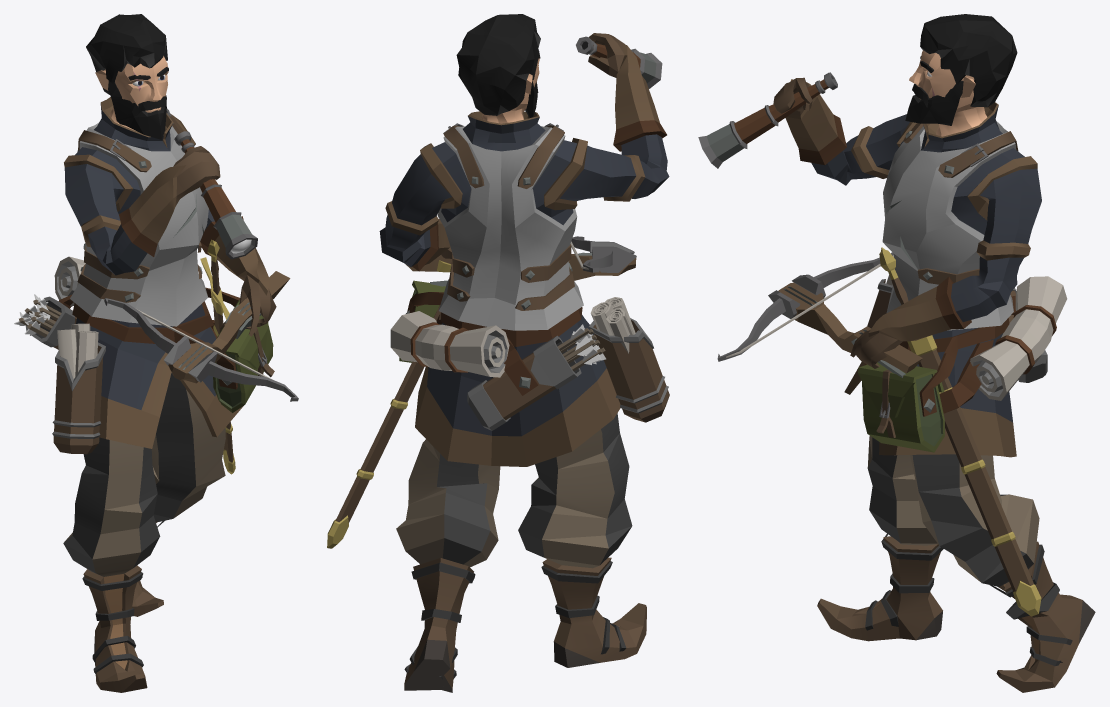
Rendered from man.glb.
3 renders of one model, left to right at view 1: azimuth 30°, elevation 25°; view 2: azimuth 150°, elevation 25°; view 3: azimuth 270°, elevation 25°, orthographic. The views are drawn at different scales.
Visible parts, largest first — view 1: pasted__polySurface41; view 2: pasted__polySurface41; view 3: pasted__polySurface41.
Part boxes in pixels (box(x1,y1,x2,y2)): pasted__polySurface41: box(14, 14, 298, 692); pasted__polySurface41: box(327, 14, 669, 692); pasted__polySurface41: box(698, 14, 1095, 692).
Size of the model in its own units: 183 by 437 by 242.
2 materials, 1 textured.
